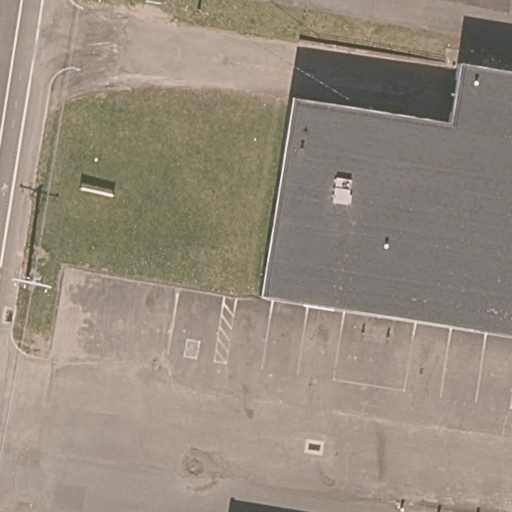DT: (11, 275, 52, 293)
